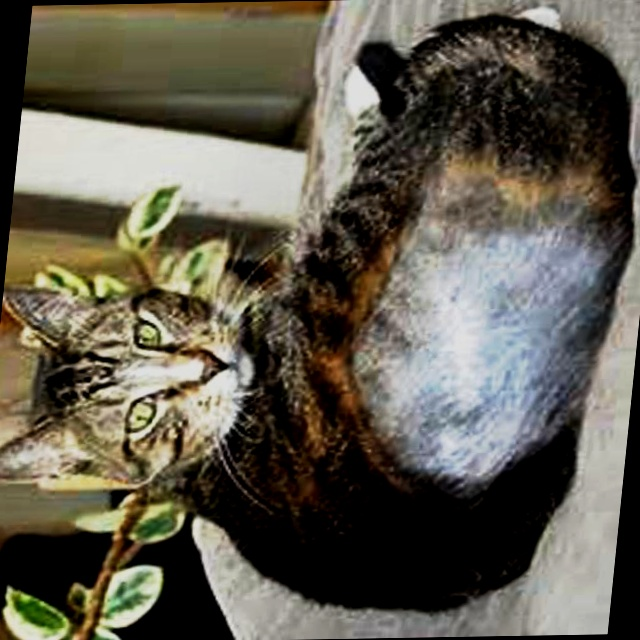hairloss: (355, 169, 610, 480)
